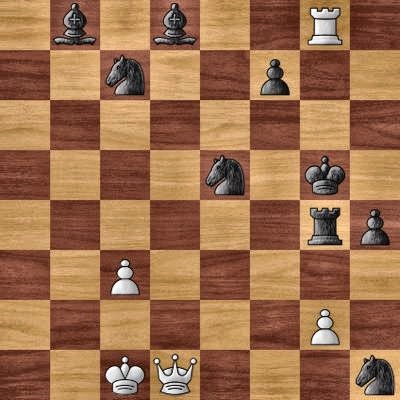black-bishop: (50, 0, 100, 50), (150, 0, 200, 50)
black-king: (300, 150, 350, 200)
black-knight: (100, 50, 150, 100), (200, 150, 250, 200), (350, 350, 400, 400)
black-pawn: (250, 50, 300, 100), (350, 200, 400, 250)
black-rook: (300, 200, 350, 250)
white-king: (100, 350, 150, 400)
white-pawn: (100, 250, 150, 300), (300, 300, 350, 350)
white-queen: (150, 350, 200, 400)
white-rook: (300, 0, 350, 50)
